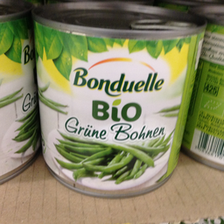beans: (32, 1, 203, 201)
